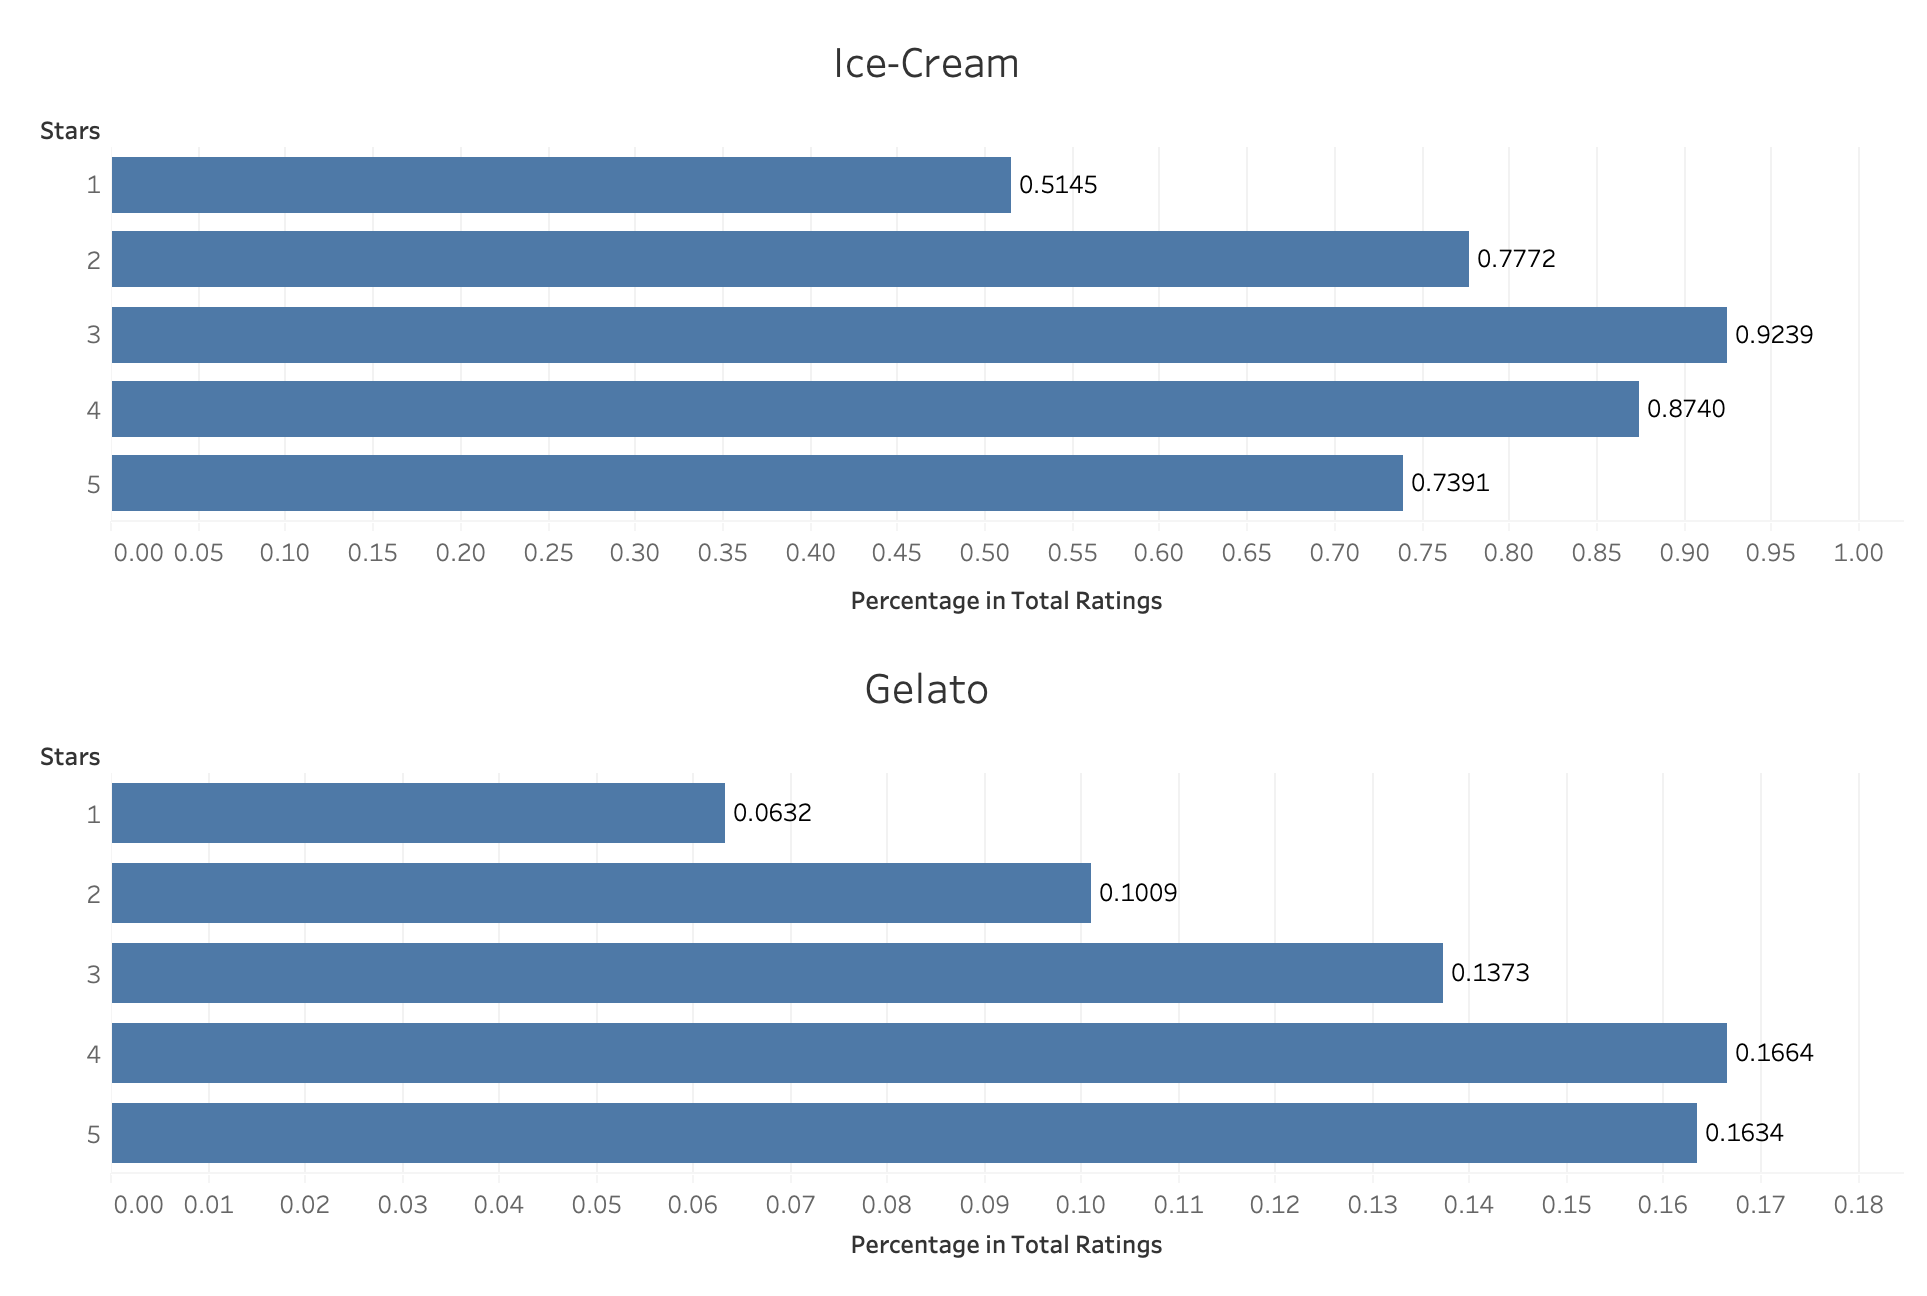

This screenshot's page, from the dashboard's own definition file:
{"tool":"tableau","page":{"name":"icecream&gelato","canvas":[1000,800],"ordinal":3},"visuals":[{"type":"worksheet","title":"icecream","mark":"Automatic","rows":["stars"],"cols":["Calculation_2283958378735419403"],"box":[8,8,984,313]},{"type":"worksheet","title":"Gelato","mark":"Automatic","rows":["stars"],"cols":["Calculation_2283958378735480844"],"box":[8,321,984,471]}]}

Visuals, with their boxes on the page's 1000x800 design canvas (x1, y1, x2, y2). These are canvas units, not pixel positions in the 1927x1296 screenshot, which may show the page scaled, cropped or inside an application window:
"icecream" worksheet: select_region(8, 8, 992, 321)
"Gelato" worksheet: select_region(8, 321, 992, 792)
